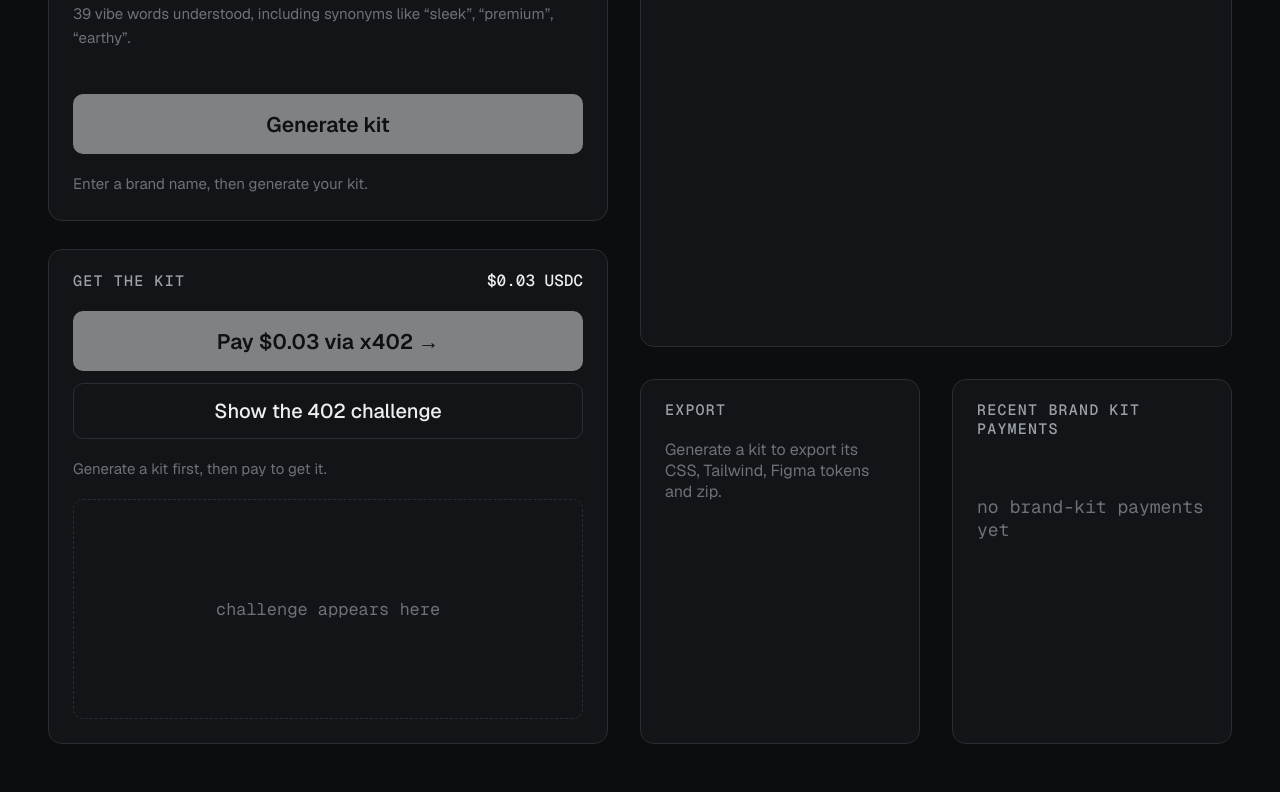
Test: the brand kit builder › proves the paid route answers 402 with a real challenge
(page scrolled)
Click the button "Show the 402 challenge": (328, 411) [73,383,583,439]
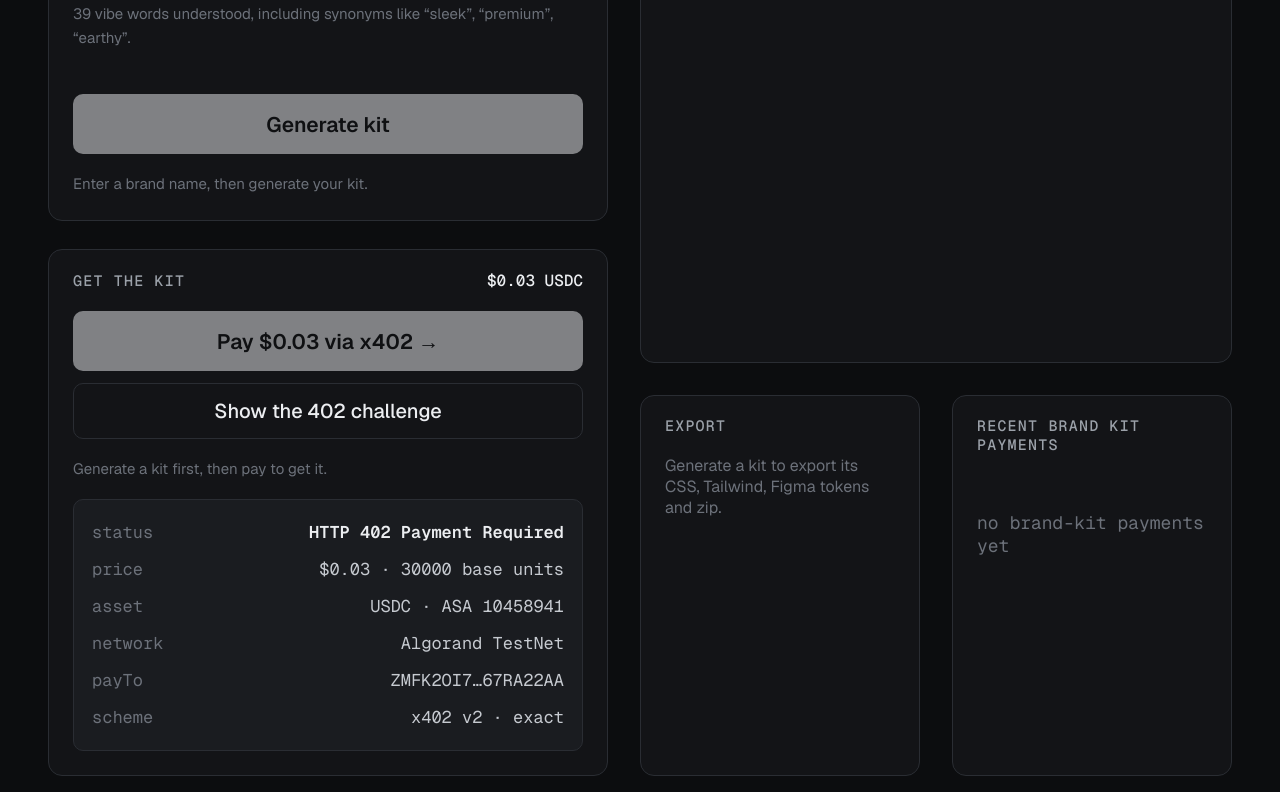
Expected: the text "HTTP 402 Payment Required" is shown, [309,521,564,543]
Expected: the text "$0.03 · 30000 base units" is shown, [319,556,564,583]
Expected: the text "USDC · ASA 10458941" is shown, [370,593,564,620]
